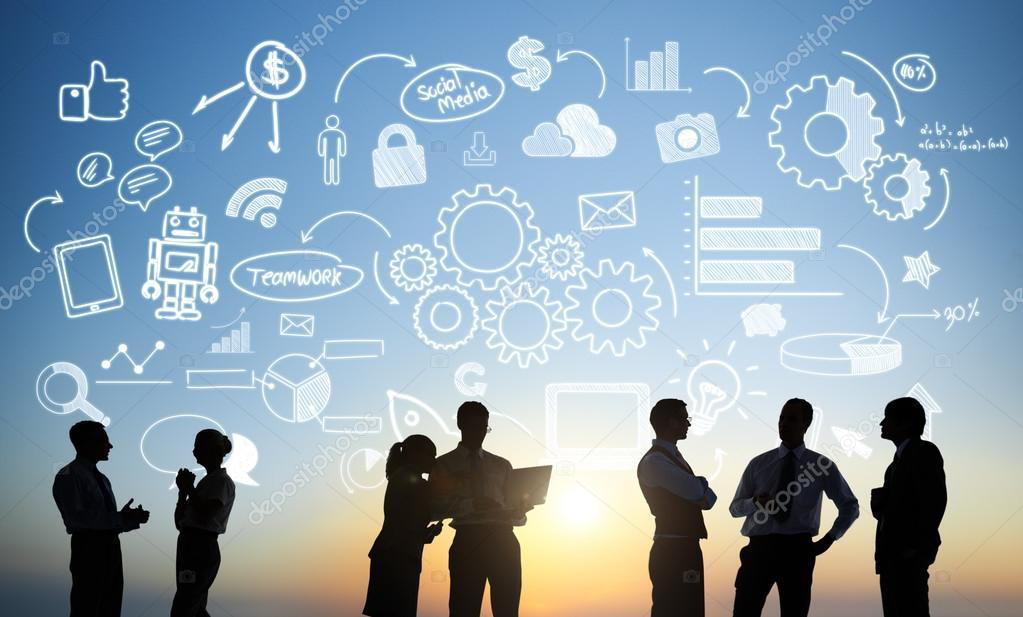person: (727, 394, 861, 617), (433, 398, 531, 617), (53, 419, 156, 617), (637, 397, 721, 617), (869, 397, 951, 617), (361, 434, 446, 617), (166, 427, 240, 617)
